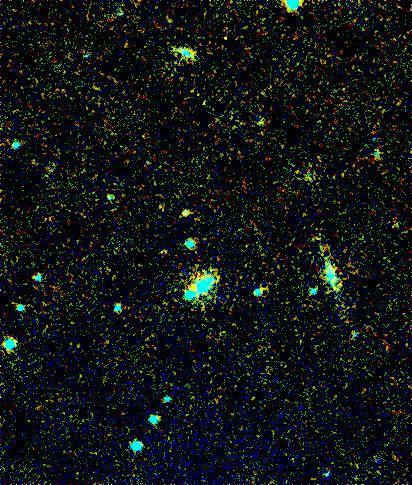star: (173, 273, 203, 303)
